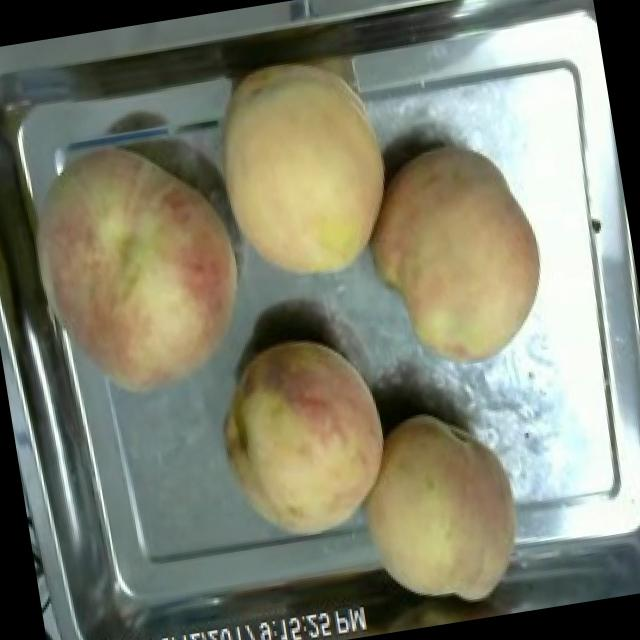Fruit: (2, 116, 272, 422), (188, 37, 414, 302), (347, 126, 566, 388), (201, 322, 408, 558), (338, 396, 540, 628)
